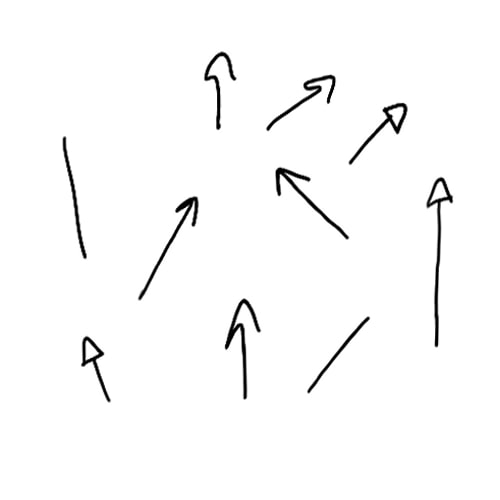arrow: (137, 196, 201, 300), (273, 166, 350, 240), (426, 176, 451, 348), (347, 102, 409, 165), (269, 73, 337, 130), (223, 298, 261, 400), (77, 334, 114, 405), (208, 50, 236, 131)
arrownohead: (309, 313, 367, 389), (60, 134, 88, 259)
